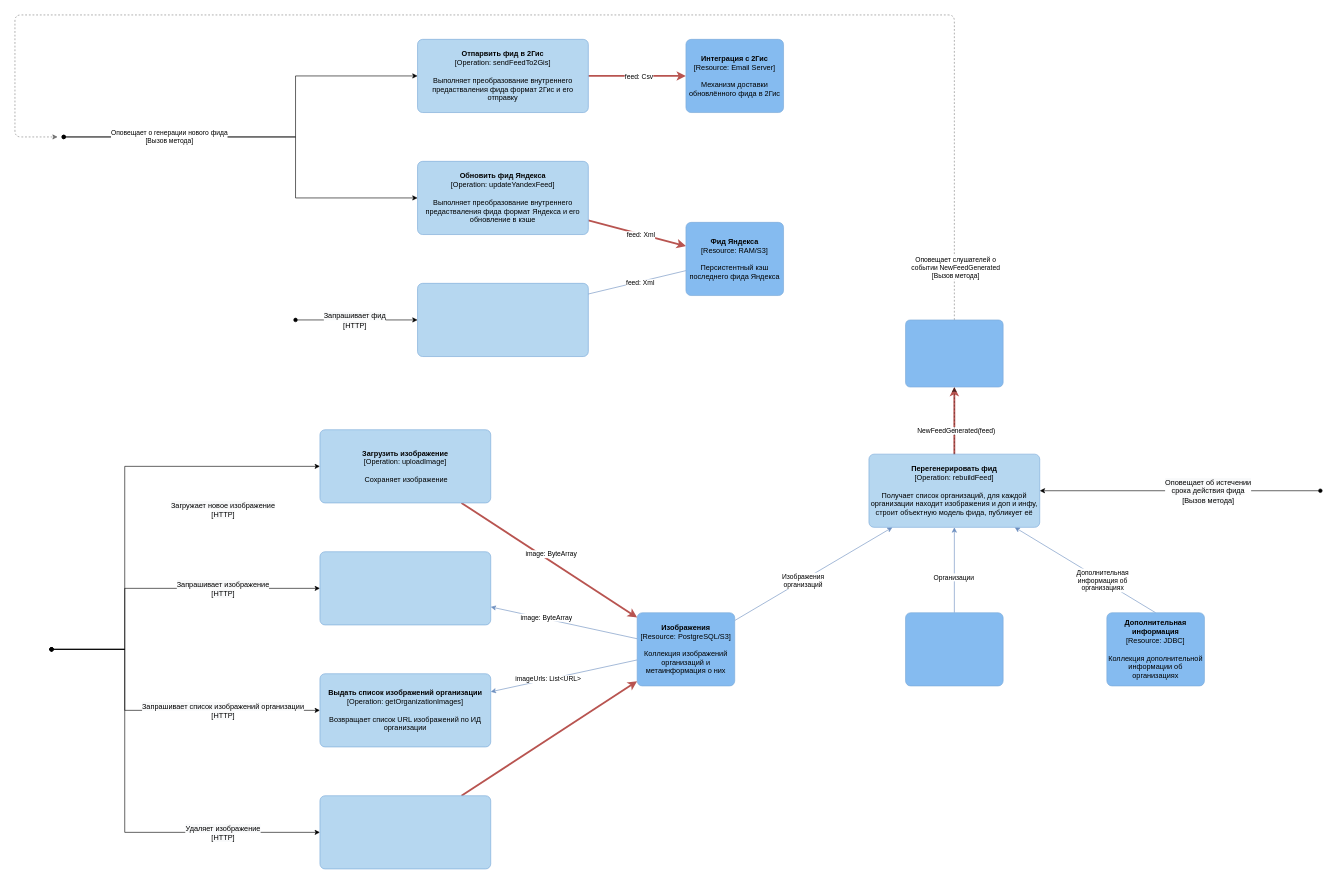
This 1337x880 diagram has some shape labels left out. The shapes that lost their labels are listed below. From the top down, each one's box as (x1, y1, x2, y2) in pixels, then its label:
(417, 283, 588, 357): Выдать фид Яндекса [Operation: getYandexFeed ] Возвращает фид Яндекса из кэша
(905, 319, 1003, 387): Тема "Сгенерирован новый фид" [Resource: Spring Application Event ]
(319, 551, 491, 625): Скачать изображение [Operation: getImage ] Возвращает изображение по ИД
(905, 612, 1003, 686): Организации [Resource: REST ] Коллекция организаций заказчика
(319, 795, 491, 869): Удалить изображение [Operation: deleteImage ] Удаляет изображение
